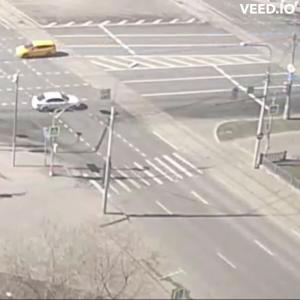car: (33, 92, 84, 115), (28, 41, 56, 61)
